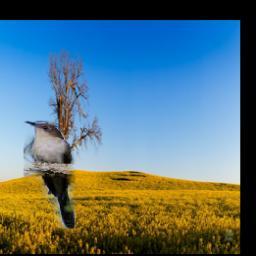Cuckoo: (25, 121, 77, 229)
